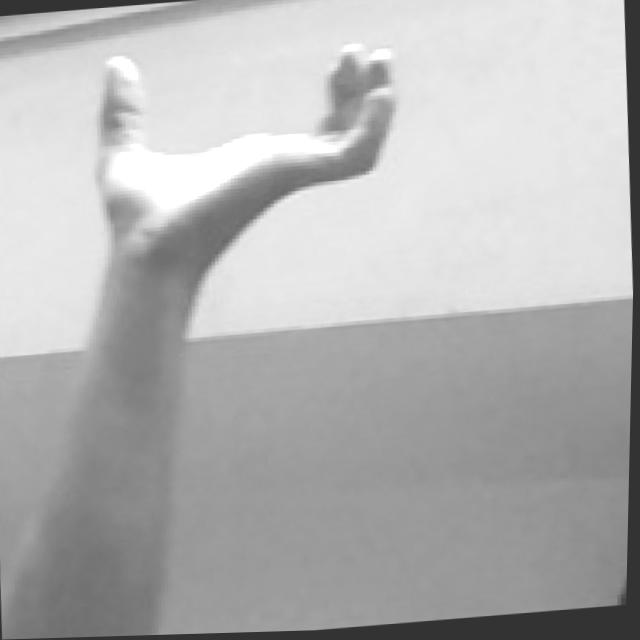space: (86, 32, 410, 230)
